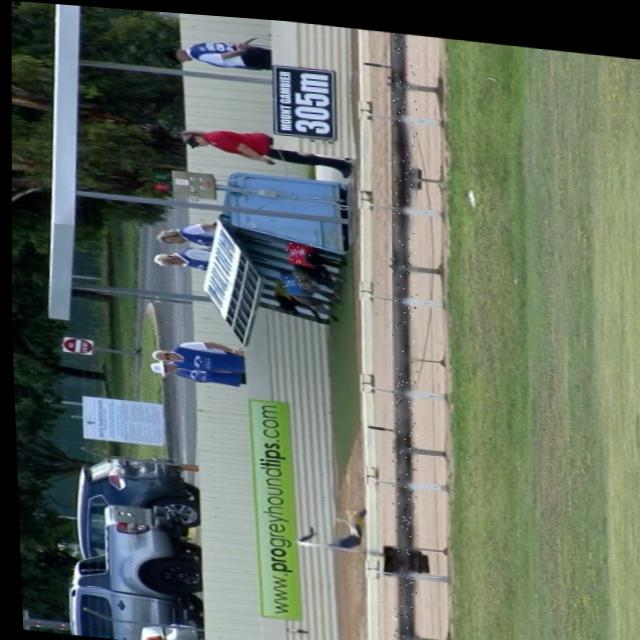dog_five: (271, 273, 289, 291)
dog_four: (277, 269, 302, 287)
dog_one: (283, 236, 311, 258)
rail: (392, 26, 413, 640)
